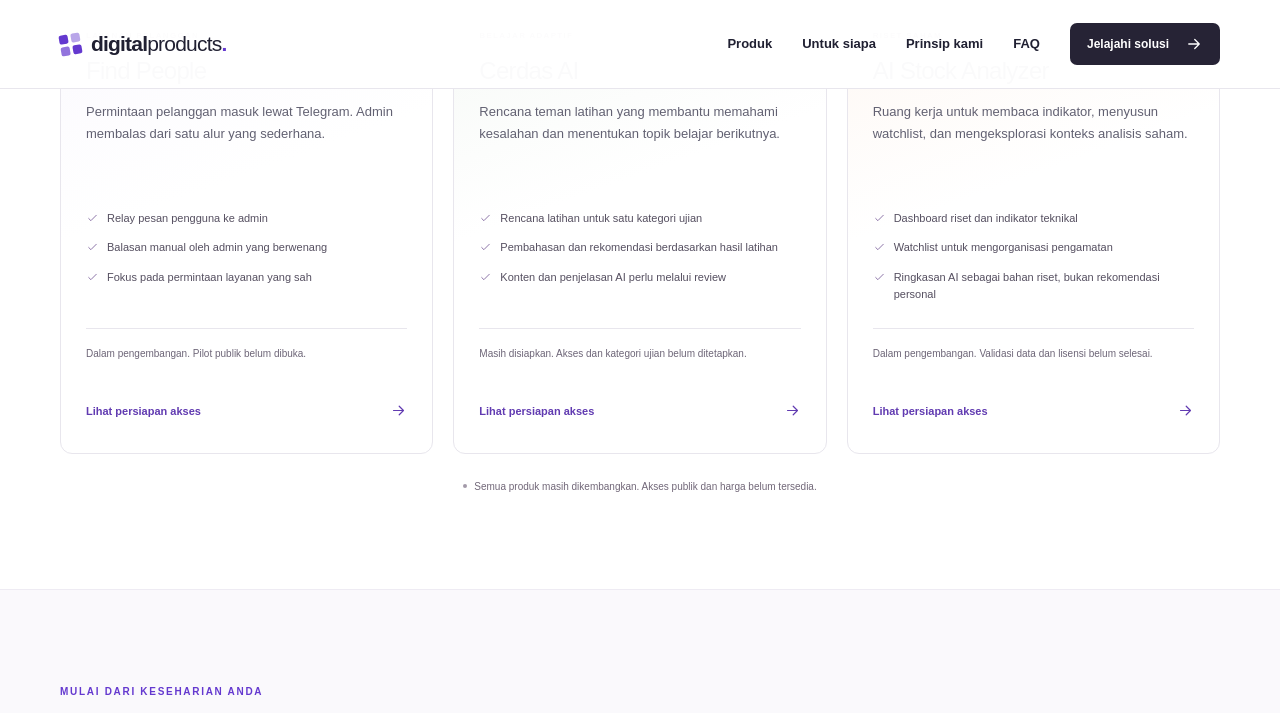
Test: Homepage Hari 04 › membuka persiapan akses produk tanpa menjanjikan akses publik
The width and height of the screenshot is (1280, 713).
(page scrolled)
Click the heading "Lihat persiapan akses" below "Fokus pada permintaan layanan yang sah". click: point(143, 411)
box: [86,402,407,420]
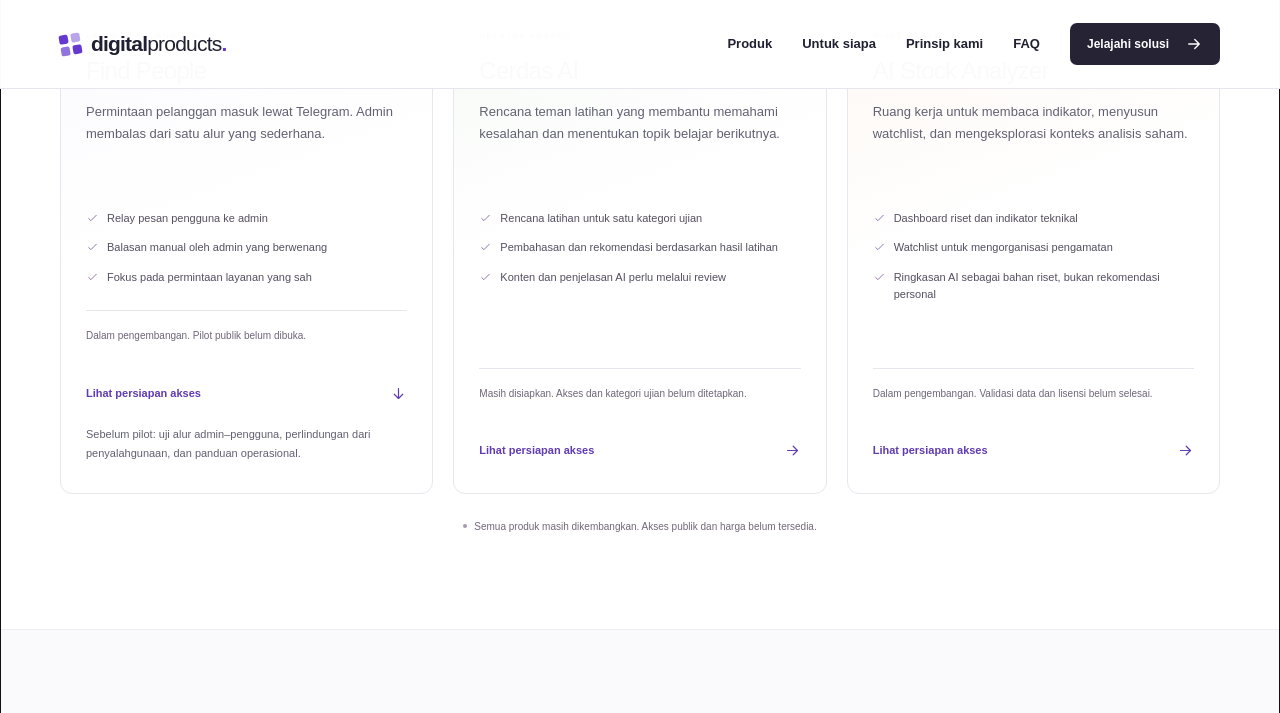
expect the text "Sebelum pilot:" is shown: met, box [86,428,370,459]
